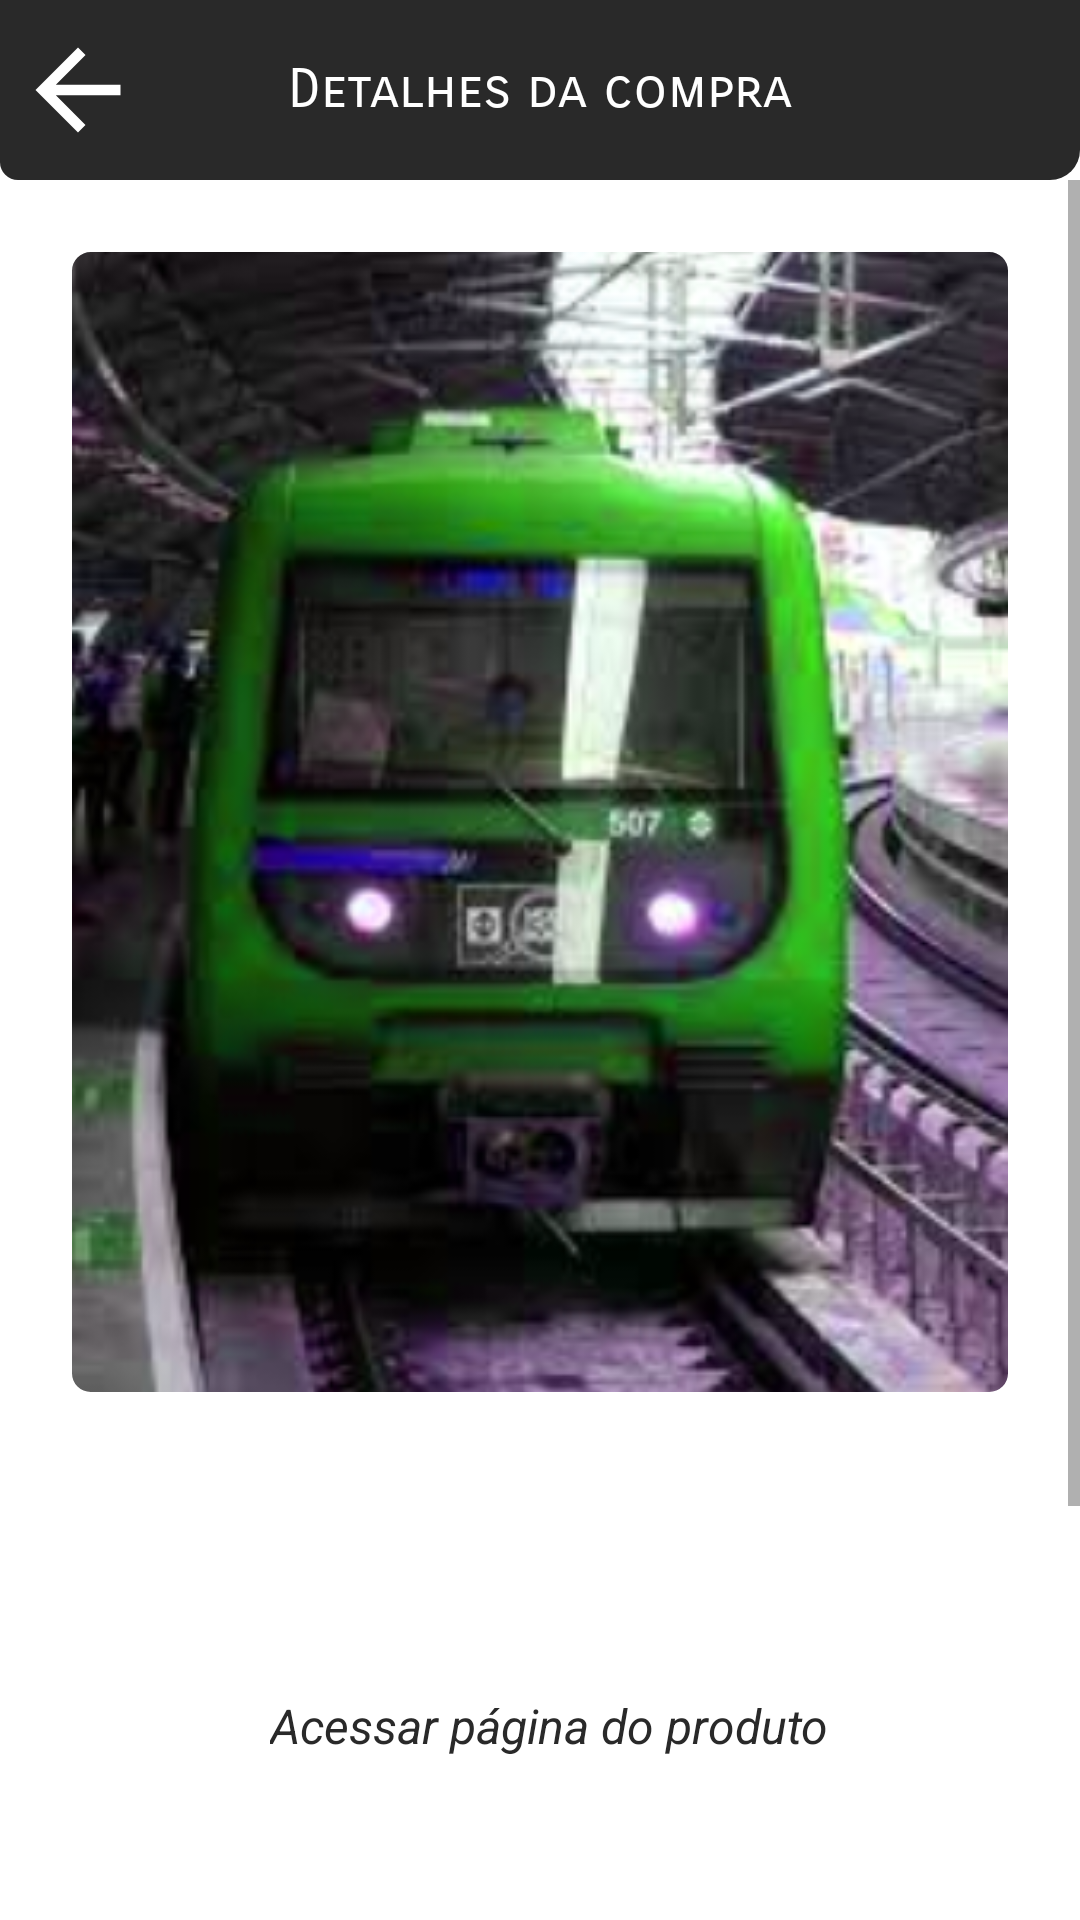

Icons on this 1080w x 1920h Android screen, each with its box as box=[x1, y1, x2, y2]:
back: box=[35, 47, 121, 133]
